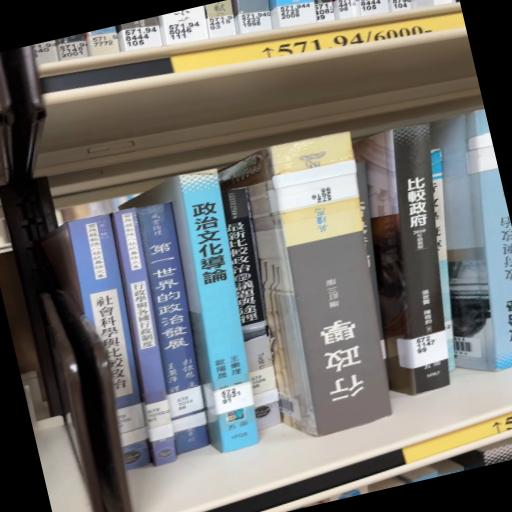reverse: (220, 134, 392, 437)
